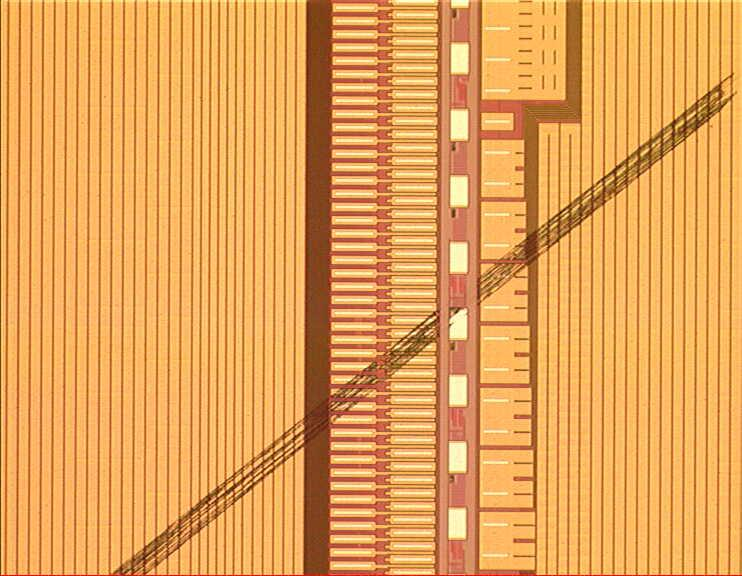SCRATCH: (94, 54, 742, 576)
